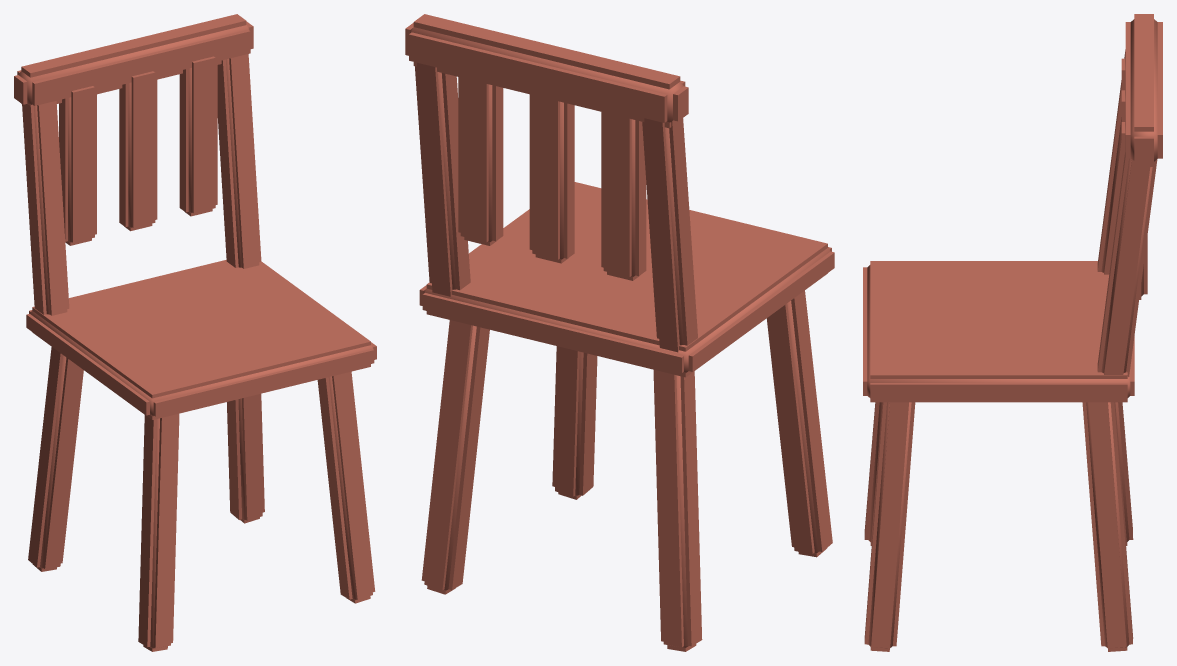
Rendered from PlasticChairHigh.glb.
3 views of the same model, side by side, from view 1: azimuth 30°, elevation 25°; view 2: azimuth 150°, elevation 25°; view 3: azimuth 270°, elevation 25° (orthographic). The views are drawn at different scales.
Visible parts, largest first — view 1: ST_PlasticChairHigh_ST_plastic_red.001; view 2: ST_PlasticChairHigh_ST_plastic_red.001; view 3: ST_PlasticChairHigh_ST_plastic_red.001.
Part boxes in pixels (bbox=[...]): ST_PlasticChairHigh_ST_plastic_red.001: bbox=[14, 14, 376, 651]; ST_PlasticChairHigh_ST_plastic_red.001: bbox=[405, 14, 834, 651]; ST_PlasticChairHigh_ST_plastic_red.001: bbox=[863, 14, 1162, 651].
Size of the model in its own units: 0.42 by 0.8545 by 0.4415.
